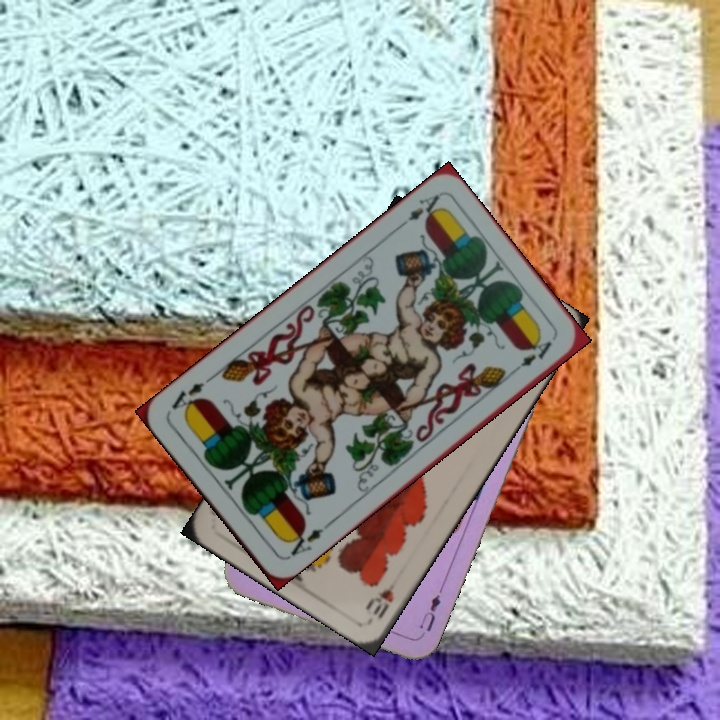EA: (280, 518, 333, 561), (392, 190, 444, 233)
EU: (414, 585, 445, 642)
H10: (362, 570, 401, 622)
